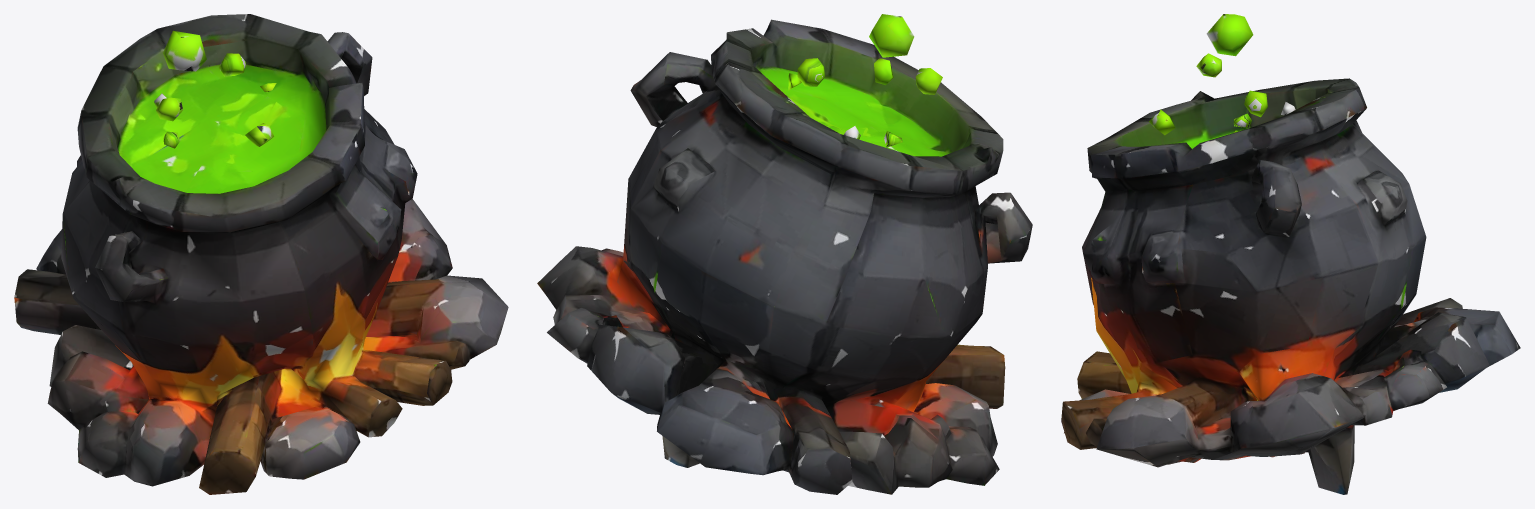
Rendered from dec_cauldron.glb.
3 renders of one model, left to right at view 1: azimuth 30°, elevation 25°; view 2: azimuth 150°, elevation 25°; view 3: azimuth 270°, elevation 25°, orthographic. The views are drawn at different scales.
Visible parts, largest first — view 1: BakeLow; view 2: BakeLow; view 3: BakeLow.
Part boxes in pixels (bbox=[...]): BakeLow: bbox=[14, 14, 508, 494]; BakeLow: bbox=[537, 14, 1032, 494]; BakeLow: bbox=[1061, 14, 1520, 494].
Size of the model in its own units: 0.7725 by 0.7829 by 0.7987.
Materials: 1 (1 with a texture image).
